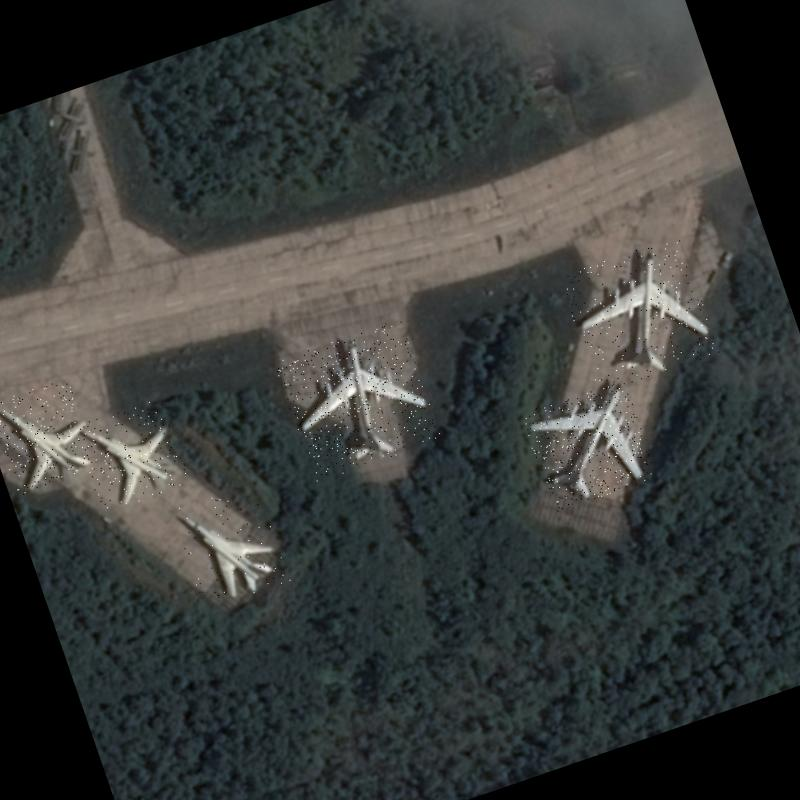A12: (170, 481, 292, 612), (73, 396, 192, 514), (0, 377, 99, 497)
A17: (274, 318, 442, 483), (558, 235, 720, 396), (520, 378, 658, 513)
